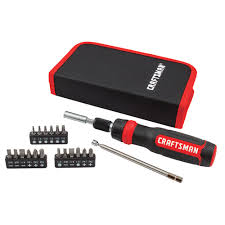Screwdriver: (59, 102, 223, 168)
